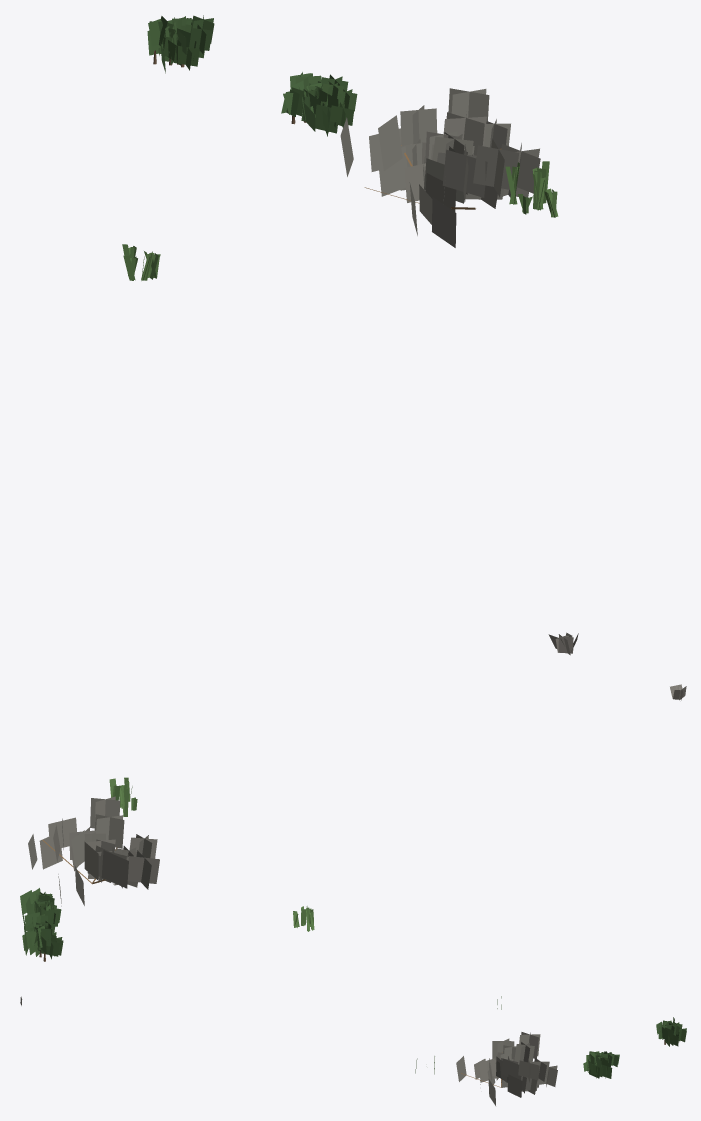
File: arch_land_scatter_c17_22.glb
3 views of the same model, one above another, from view 1: azimuth 30°, elevation 25°; view 2: azimuth 150°, elevation 25°; view 3: azimuth 270°, elevation 25° (orthographic). The views are drawn at different scales.
Visible parts, largest first — view 1: arch_land_scatter_c17_22; view 2: arch_land_scatter_c17_22; view 3: arch_land_scatter_c17_22.
Part boxes in pixels (x1,y1,x2,y2): arch_land_scatter_c17_22: [122, 15, 578, 655]; arch_land_scatter_c17_22: [20, 684, 686, 961]; arch_land_scatter_c17_22: [20, 996, 686, 1105].
Size of the model in its own units: 11.01 by 2.29 by 28.56.
